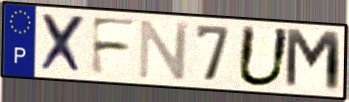7: (193, 22, 235, 84)
F: (88, 15, 140, 77)
M: (283, 26, 344, 95)
N: (136, 18, 191, 81)
U: (234, 23, 294, 89)
X: (39, 11, 88, 76)
